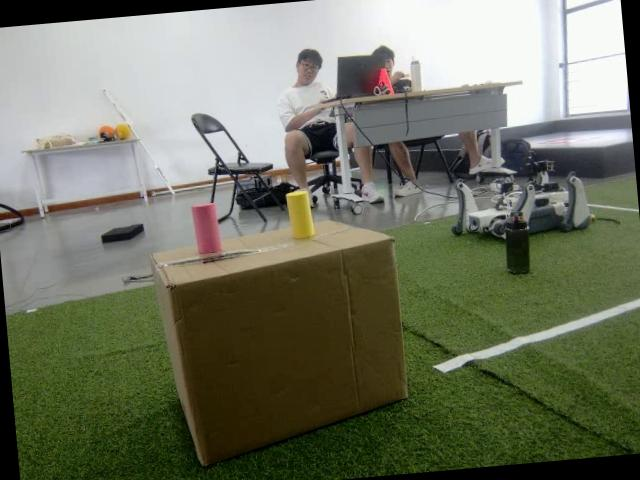red_cylinder: (188, 200, 222, 256)
yellow_cylinder: (283, 186, 316, 242)
